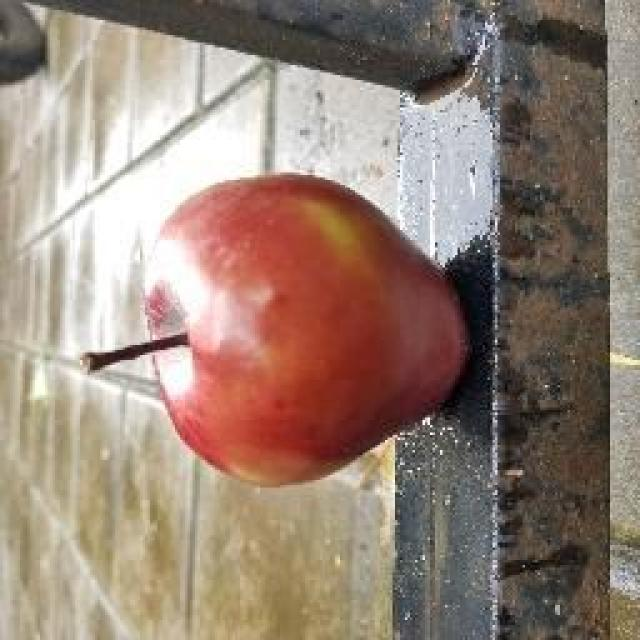Good_Apple: (82, 172, 472, 490)
